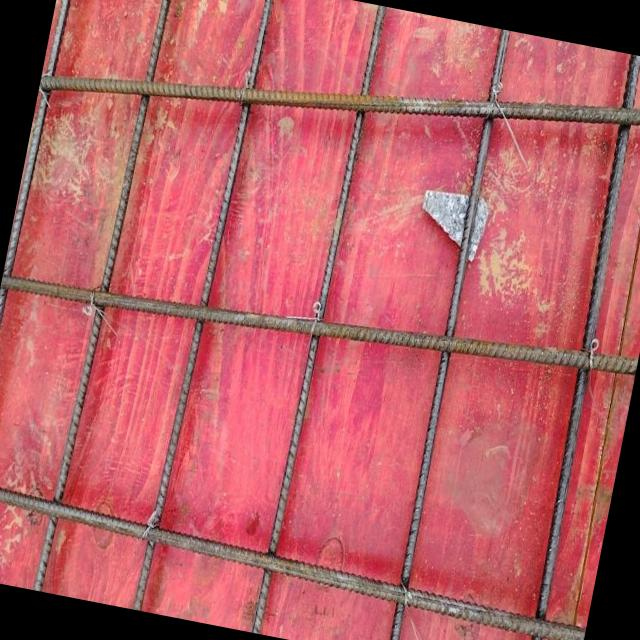ribbed bar: (39, 0, 640, 207), (0, 236, 638, 412), (0, 475, 591, 640), (132, 0, 277, 613), (32, 0, 177, 593), (251, 4, 387, 634), (378, 29, 517, 640), (508, 54, 640, 640), (0, 0, 82, 480)
